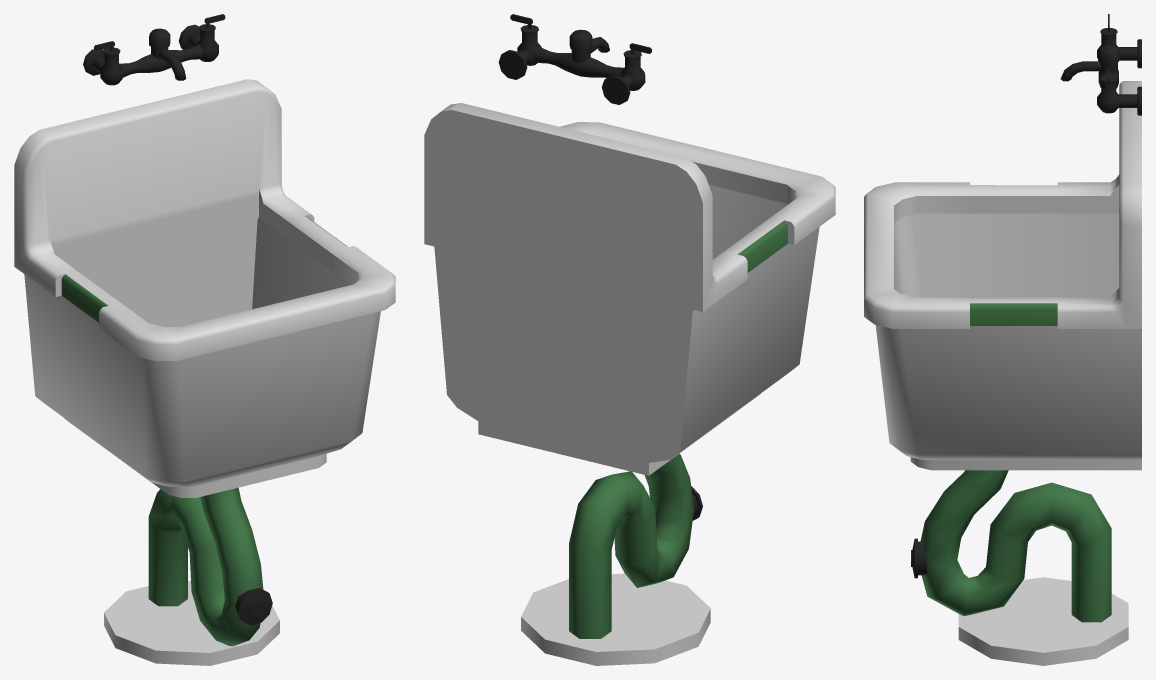
File: KOHLER6652.FBX
The picture shows the model from 3 angles, left to right: view 1: azimuth 30°, elevation 25°; view 2: azimuth 150°, elevation 25°; view 3: azimuth 270°, elevation 25°; orthographic projection. The views are drawn at different scales.
Visible parts, largest first — view 1: KOHLER6652; view 2: KOHLER6652; view 3: KOHLER6652.
Boxes of the visible parts, left/top/right/bottom form: KOHLER6652: left=14, top=14, right=395, bottom=665; KOHLER6652: left=424, top=14, right=835, bottom=665; KOHLER6652: left=864, top=14, right=1141, bottom=665.
Bounding box in the file's own units: 48.92 × 45 × 104.
